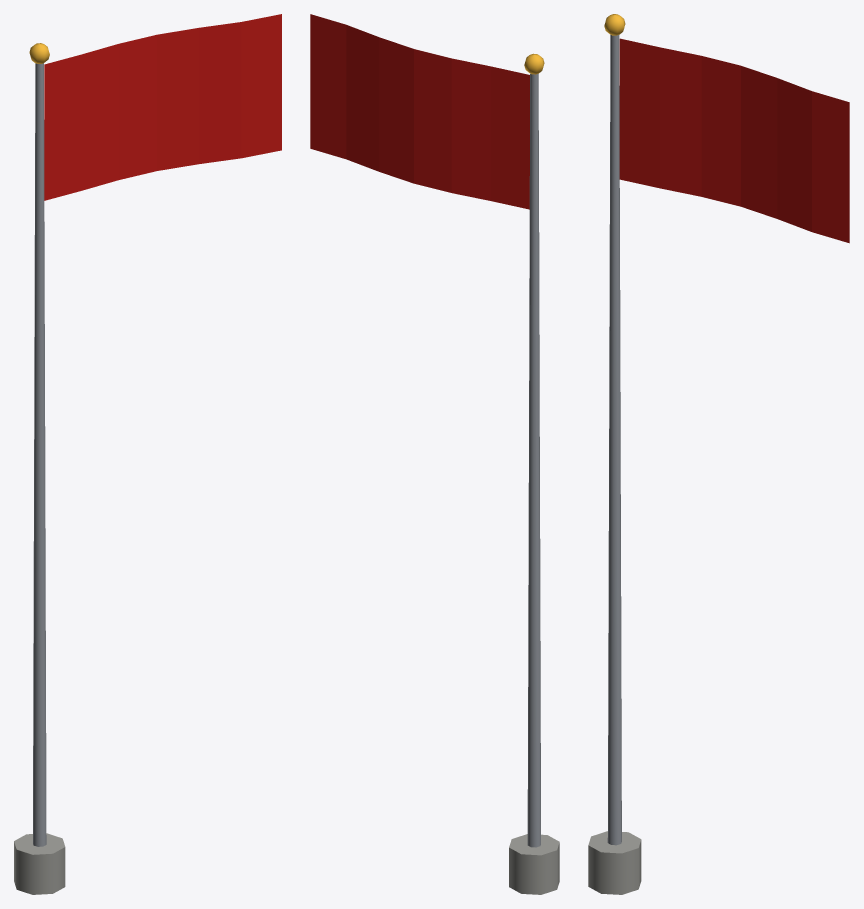
The model's file is SM_Flagpole_Red.fbx.
3 views of the same model, side by side, from view 1: azimuth 30°, elevation 25°; view 2: azimuth 150°, elevation 25°; view 3: azimuth 330°, elevation 25° (orthographic). The views are drawn at different scales.
Parts seen in each view (by area): view 1: SM_Flagpole_Red; view 2: SM_Flagpole_Red; view 3: SM_Flagpole_Red.
Boxes of the visible parts, <box> form: SM_Flagpole_Red: <box>14,14,281,894</box>; SM_Flagpole_Red: <box>310,14,559,894</box>; SM_Flagpole_Red: <box>588,14,849,894</box>.
Size of what is drawn, in the model's own units: 3.36 by 10.47 by 0.6.
